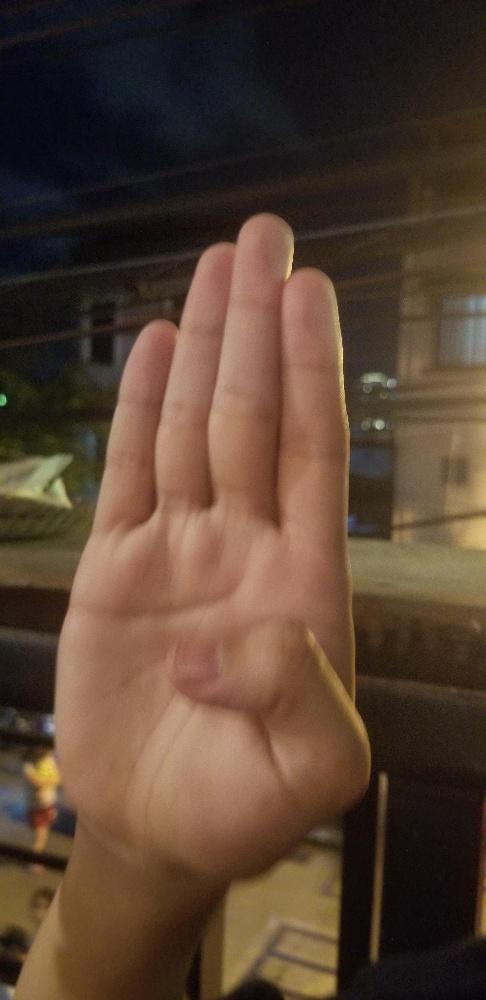b: (52, 208, 373, 885)
